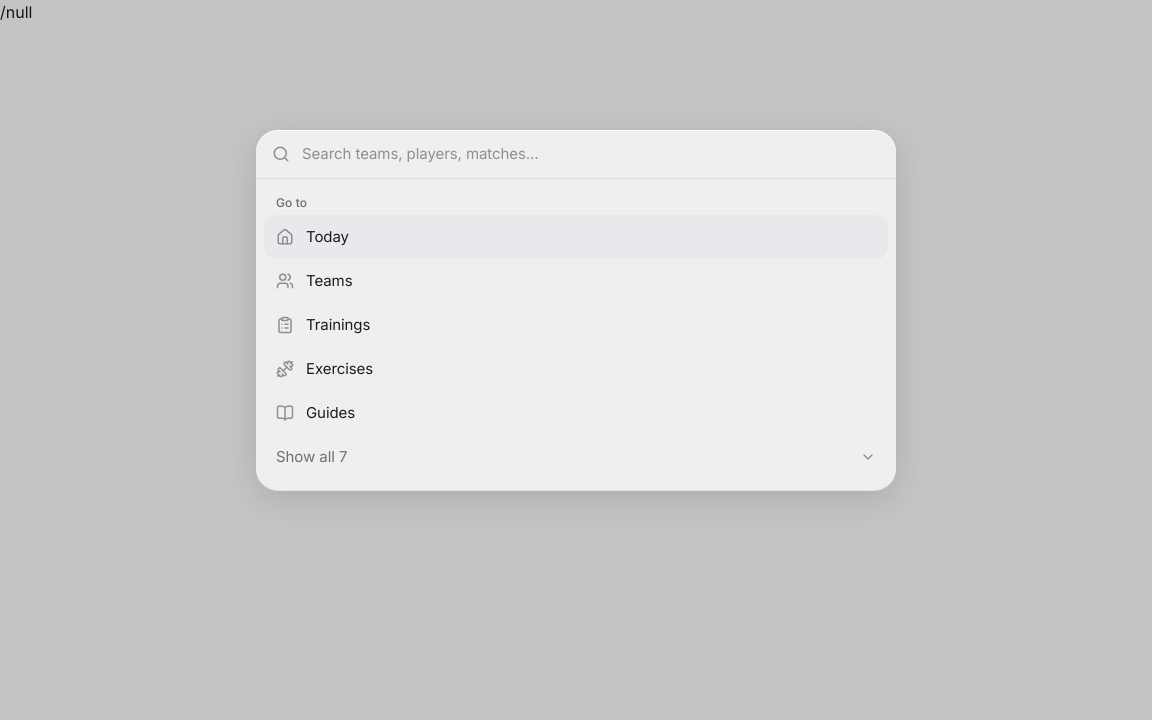
Test: SearchPalette › server groups › shows exercises and trainings groups after matches
Type "anna" into the dropdown at (591, 154), box x1=302 y1=130 x2=880 y2=178
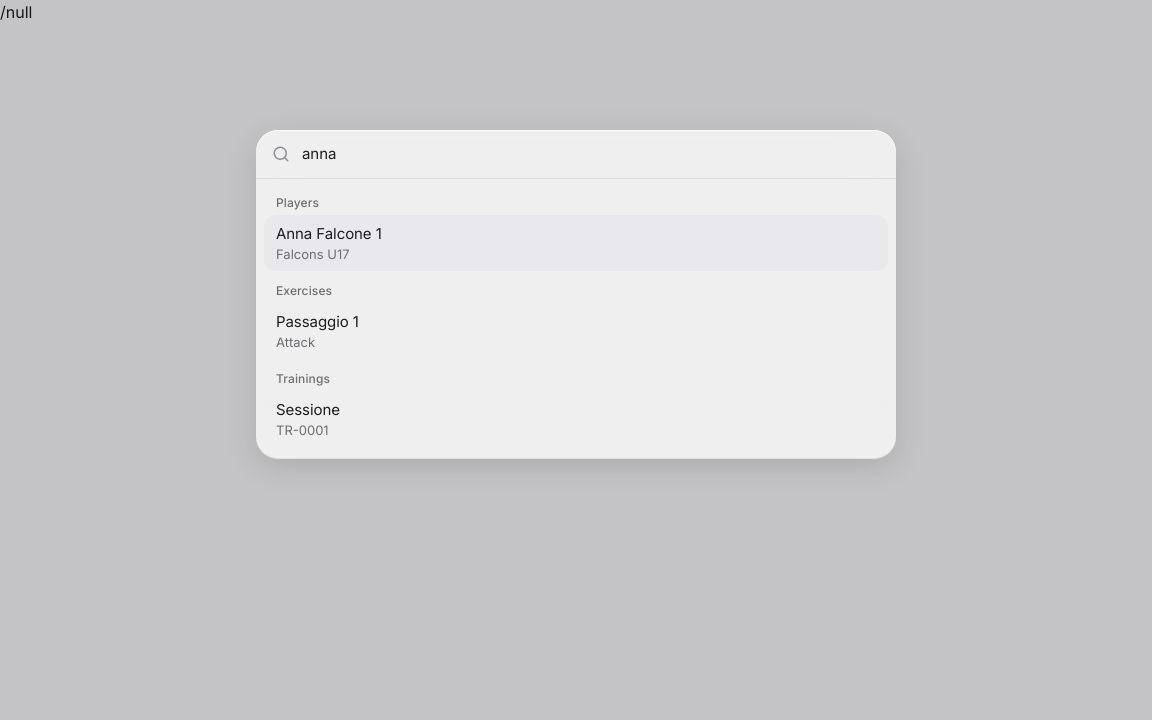
Click the option "Passaggio 1 Attack" at (317, 331), box x1=276 y1=312 x2=359 y2=350
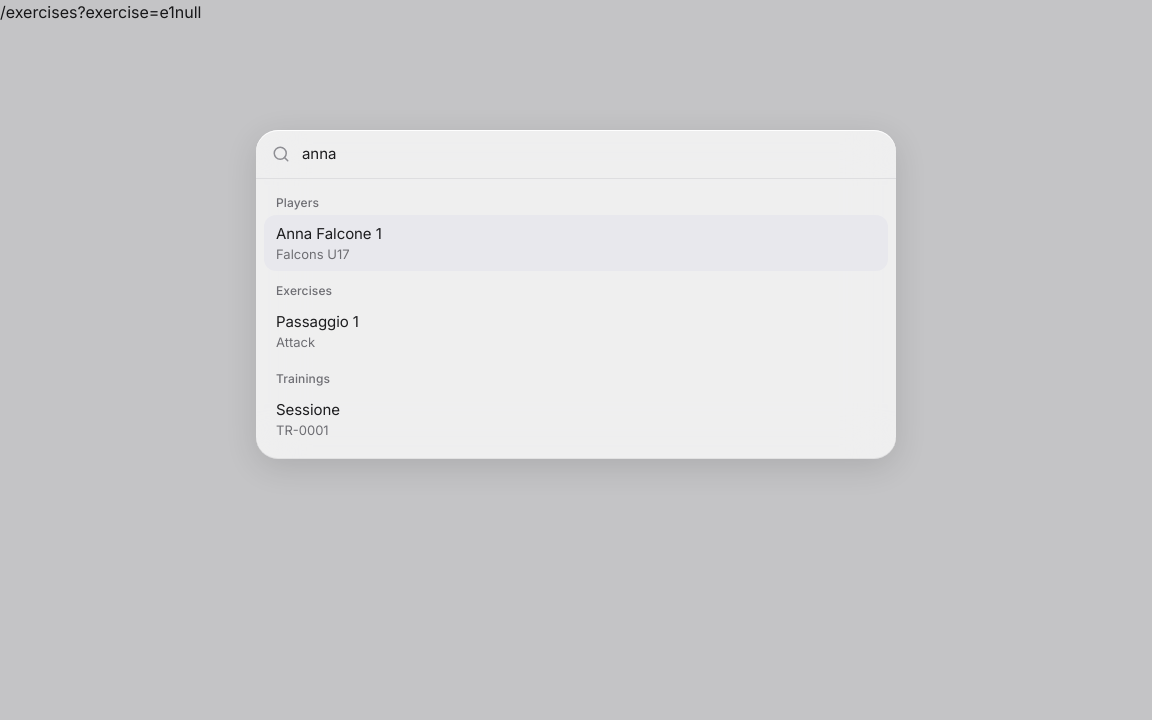
Now the text with test id "where" shows "/exercises?exercise=e1", box x1=0 y1=2 x2=201 y2=22
